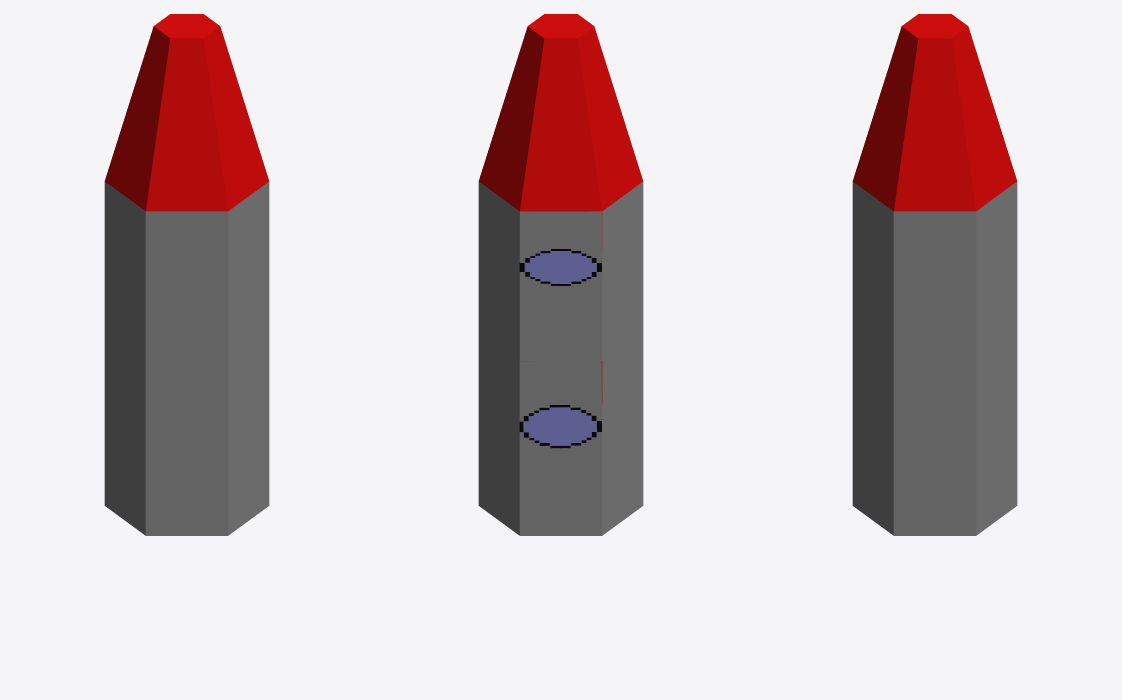
The model's file is Rocket.fbx.
3 renders of one model, left to right at view 1: azimuth 30°, elevation 25°; view 2: azimuth 150°, elevation 25°; view 3: azimuth 270°, elevation 25°, orthographic.
Parts seen in each view (by area): view 1: Cylinder; view 2: Cylinder; view 3: Cylinder.
Part boxes in pixels (bbox=[...]): Cylinder: bbox=[104, 14, 269, 535]; Cylinder: bbox=[478, 14, 643, 535]; Cylinder: bbox=[852, 14, 1017, 535].
Bounding box in the file's own units: 363 × 799 × 420.
1 material, 1 textured.
